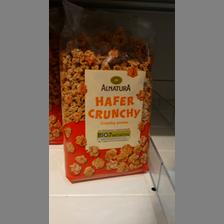Cerealien: (57, 22, 152, 182)
